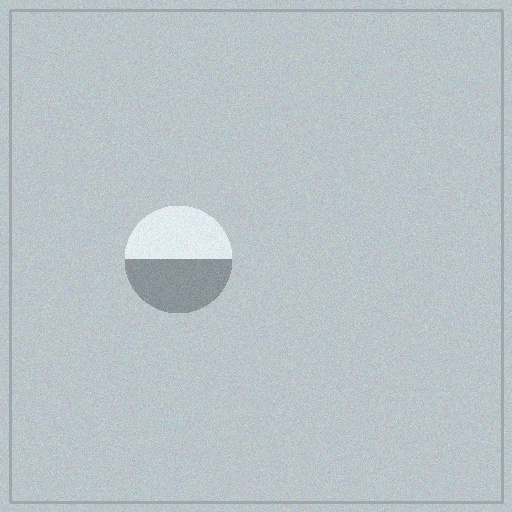deformation: (119, 200, 237, 318)
